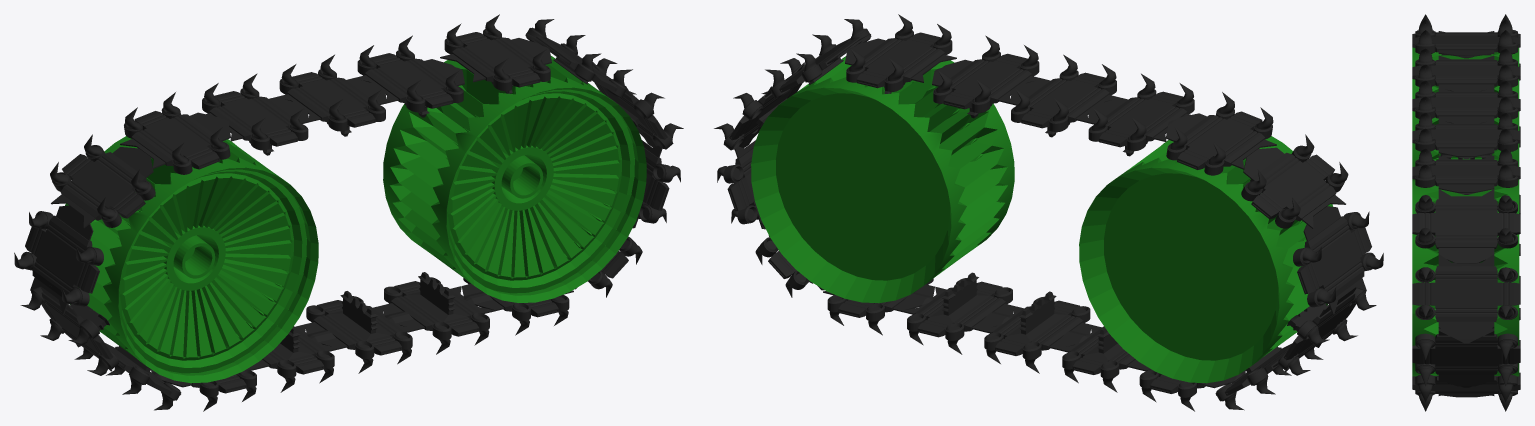
File: Wheel3.FBX
The picture shows the model from 3 angles, left to right: view 1: azimuth 30°, elevation 25°; view 2: azimuth 150°, elevation 25°; view 3: azimuth 270°, elevation 25°; orthographic projection. The views are drawn at different scales.
Parts seen in each view (by area): view 1: Cylinder01, Box12; view 2: Cylinder01, Box12; view 3: Box12, Cylinder01.
Part boxes in pixels (left/top/right/bottom): Cylinder01: left=65, top=55, right=646, bottom=383; Box12: left=14, top=14, right=683, bottom=411; Cylinder01: left=751, top=56, right=1333, bottom=383; Box12: left=714, top=14, right=1383, bottom=411; Box12: left=1412, top=14, right=1520, bottom=411; Cylinder01: left=1412, top=47, right=1519, bottom=376.
Size of the model in its own units: 215 by 92.69 by 38.4.
